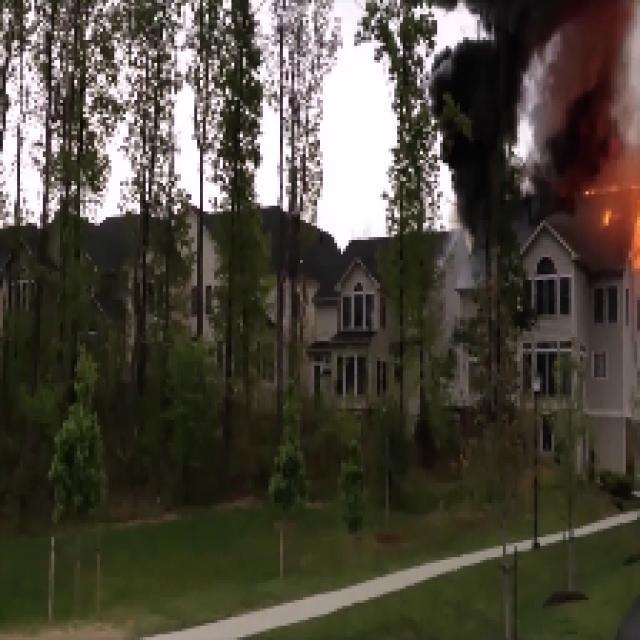Smoke: (441, 27, 518, 200), (561, 10, 612, 183)
